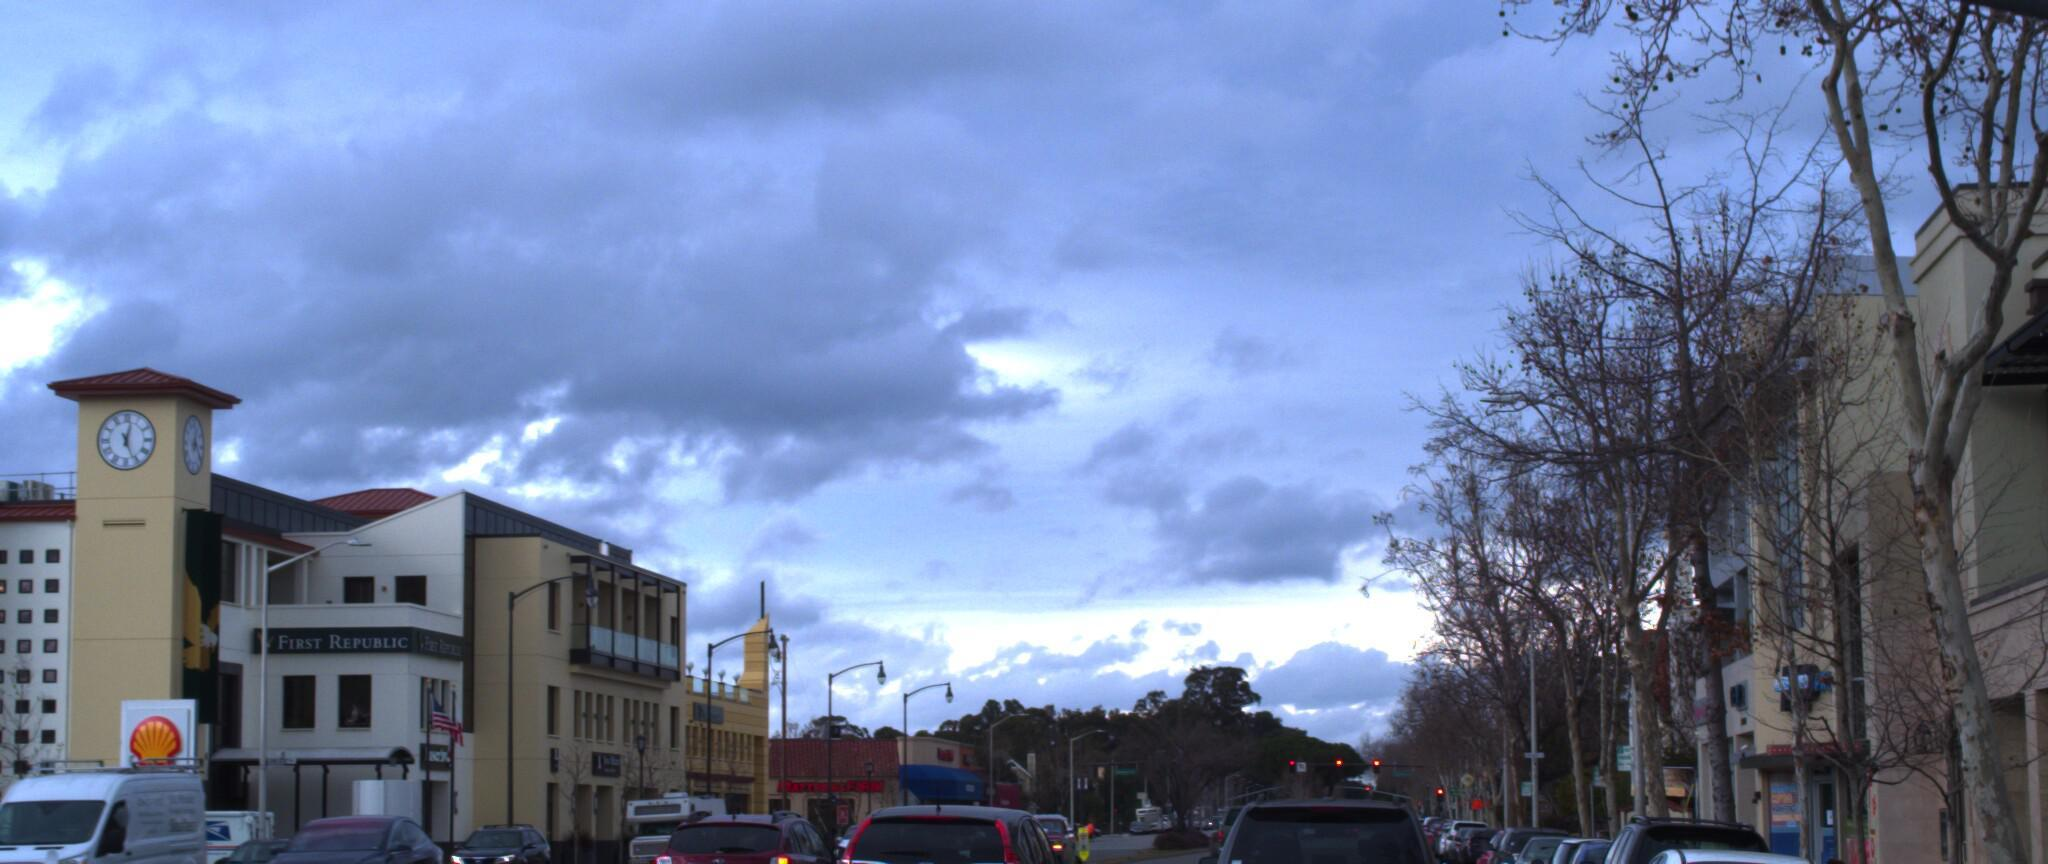car: (0, 744, 227, 864), (1186, 773, 1443, 864), (0, 790, 291, 864), (799, 799, 1084, 864), (1560, 810, 1801, 864), (249, 807, 460, 864), (628, 807, 839, 864), (1590, 834, 1906, 864), (451, 816, 567, 864), (1549, 837, 1715, 864), (0, 841, 26, 864)
